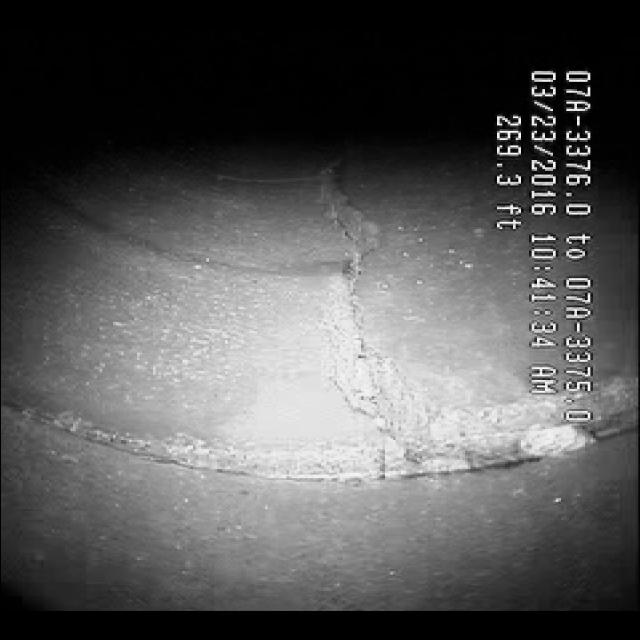Fracture: (278, 172, 428, 488)
